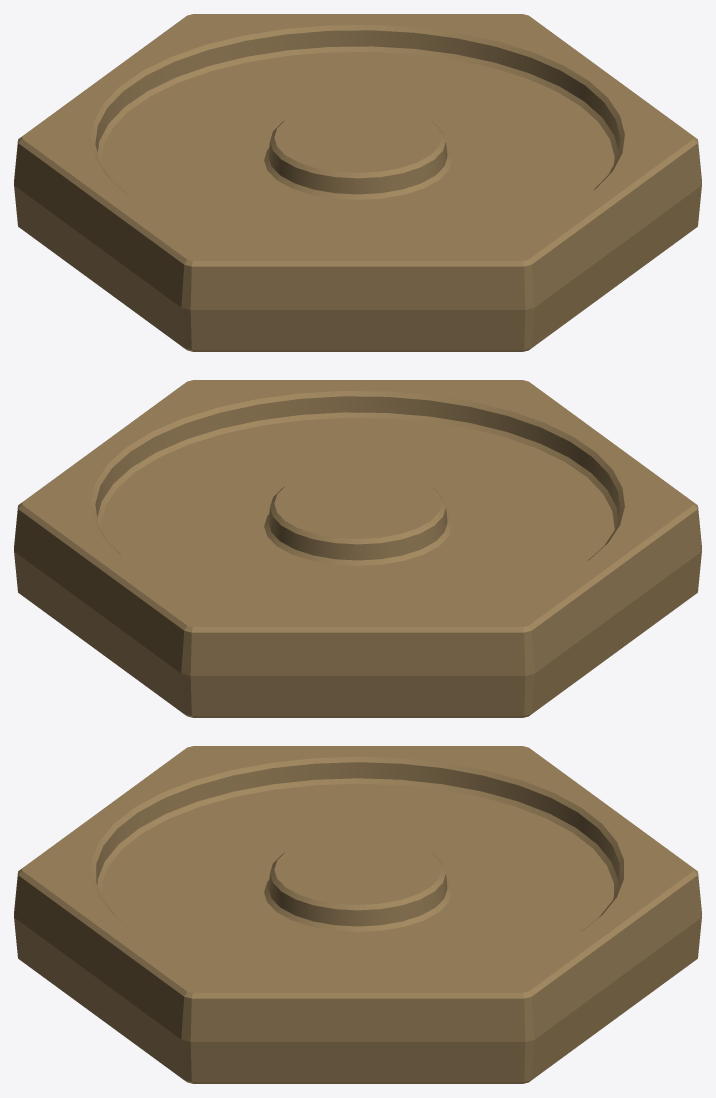
File: tile_black.glb
3 views of the same model, one above another, from view 1: azimuth 30°, elevation 25°; view 2: azimuth 150°, elevation 25°; view 3: azimuth 270°, elevation 25° (orthographic).
Visible parts, largest first — view 1: Node1; view 2: Node1; view 3: Node1.
Boxes of the visible parts, left/top/right/bottom form: Node1: left=14, top=14, right=701, bottom=351; Node1: left=14, top=380, right=701, bottom=717; Node1: left=14, top=746, right=701, bottom=1083.
Bounding box in the file's own units: 1.5 × 0.25 × 1.72.
